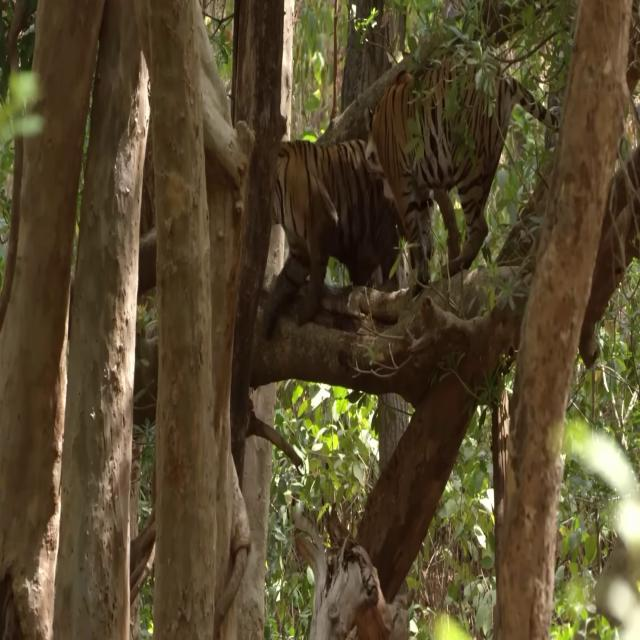tiger: (365, 45, 559, 295)
